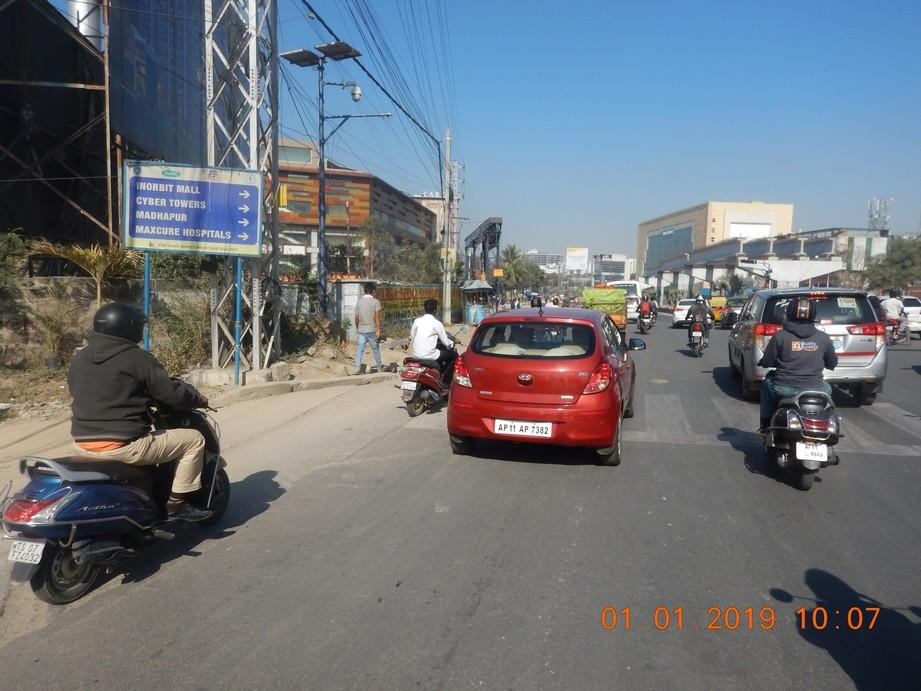plate: (7, 540, 43, 565), (795, 442, 829, 462)
